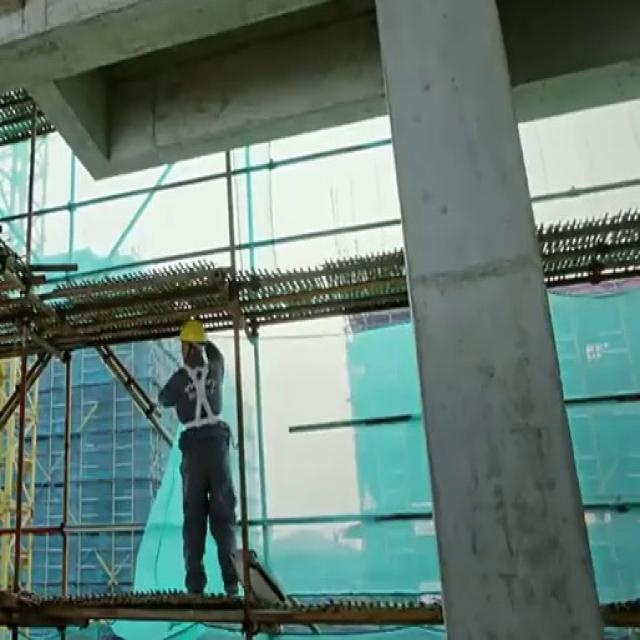Arnes_seguridad: (173, 361, 228, 434)
